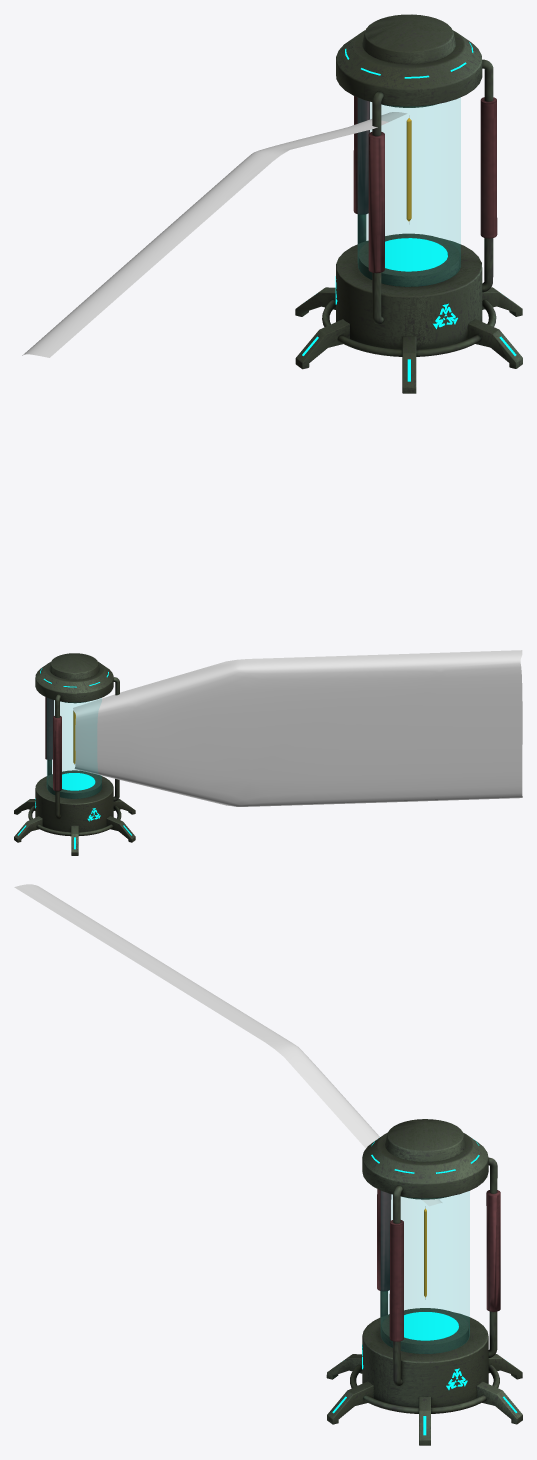
The picture shows the model from 3 angles, top to bottom: view 1: azimuth 30°, elevation 25°; view 2: azimuth 150°, elevation 25°; view 3: azimuth 270°, elevation 25°; orthographic projection. The views are drawn at different scales.
Visible parts, largest first — view 1: Curve, Cylinder.002, projection, Cylinder.048, leg_05, leg_01, leg_06; view 2: projection, Curve, Cylinder.002, Cylinder.048, leg_01, leg_03; view 3: Curve, projection, Cylinder.002, Cylinder.048, leg_05, leg_03.
Part boxes in pixels (x1,y1,x2,y2): Curve: [322, 14, 496, 356]; Cylinder.002: [353, 59, 497, 324]; projection: [22, 112, 407, 357]; Cylinder.048: [345, 42, 473, 271]; leg_05: [468, 319, 522, 368]; leg_01: [295, 319, 349, 369]; leg_06: [402, 336, 416, 393]; projection: [73, 650, 522, 806]; Curve: [28, 653, 121, 836]; Cylinder.002: [45, 677, 119, 818]; Cylinder.048: [40, 668, 108, 790]; leg_01: [106, 816, 135, 842]; leg_03: [14, 816, 42, 842]; Curve: [350, 1119, 499, 1413]; projection: [14, 884, 442, 1206]; Cylinder.002: [377, 1157, 500, 1385]; Cylinder.048: [371, 1139, 479, 1340]; leg_05: [327, 1381, 373, 1424]; leg_03: [477, 1381, 522, 1424].
Size of the model in its own units: 42.65 by 17.98 by 30.02.
12 materials, 8 textured.
